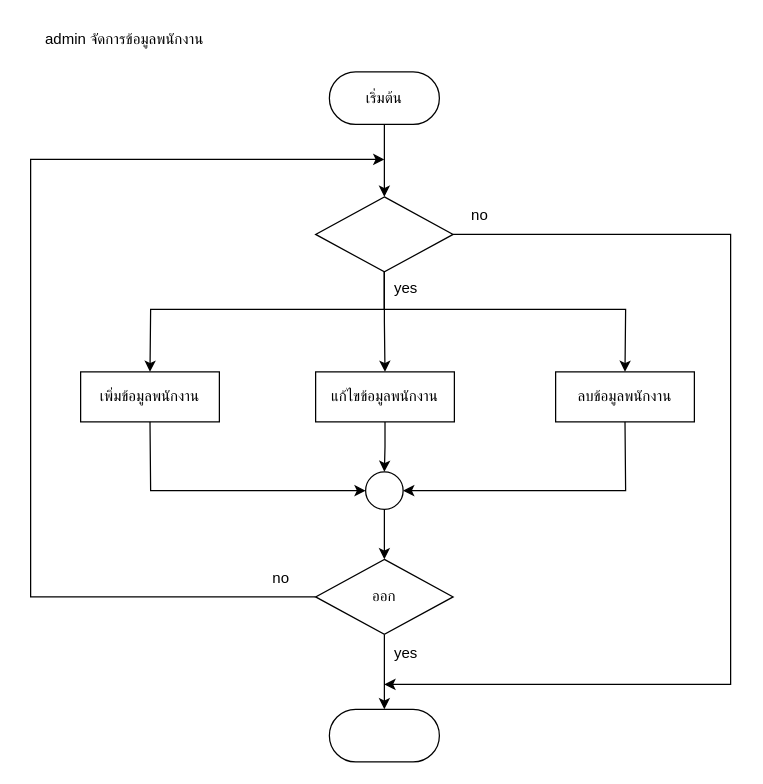
This 763x784 diagram has some shape labels left out. The box of each missing label's shape, as (x1, y1, x2, y2) in pixels:
จบ: (328, 708, 439, 762)
จัดการข้อมูลพนักงาน: (314, 196, 453, 272)
